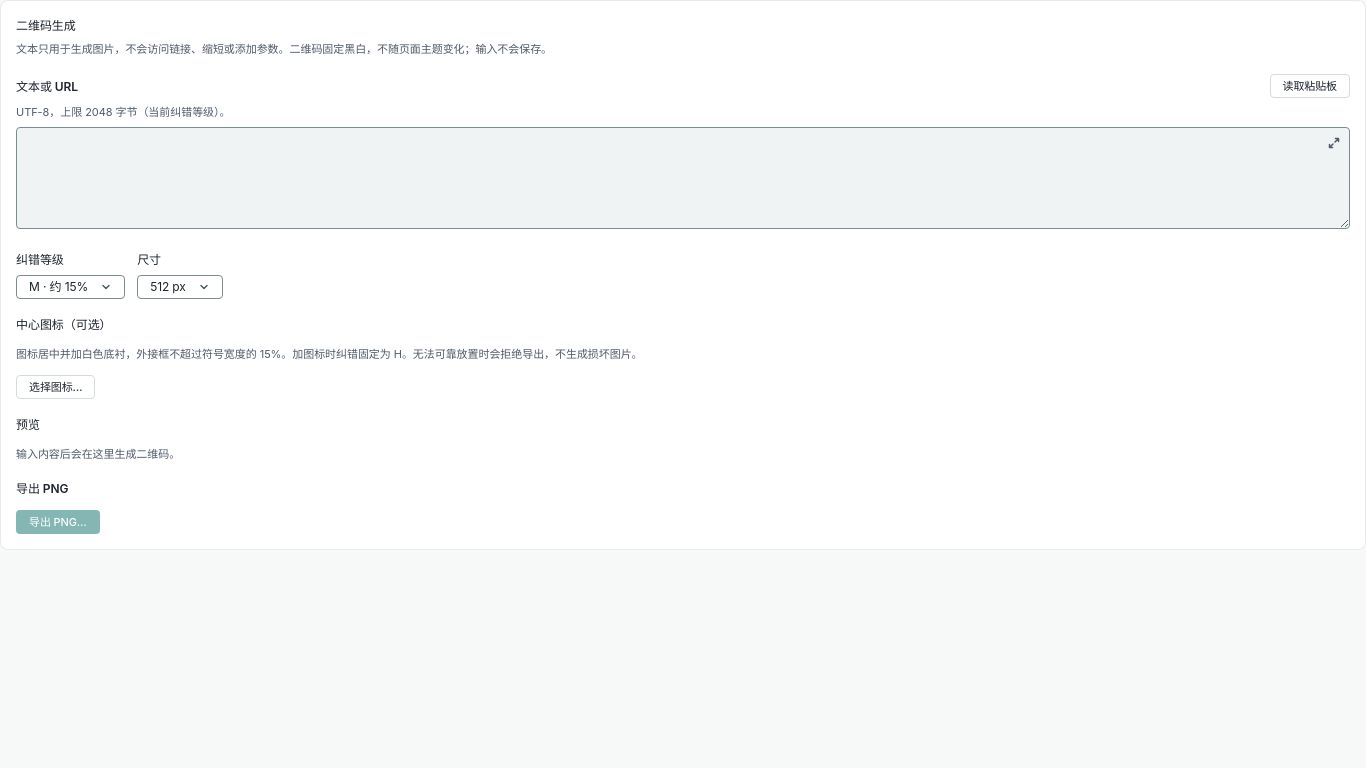
it: 二维码生成 输入框的读取粘贴板 › replaces the current input with the clipboard text
Type "旧内容" into the text box labelled "文本或 URL". click: [683, 178]
box: [16, 127, 1350, 229]
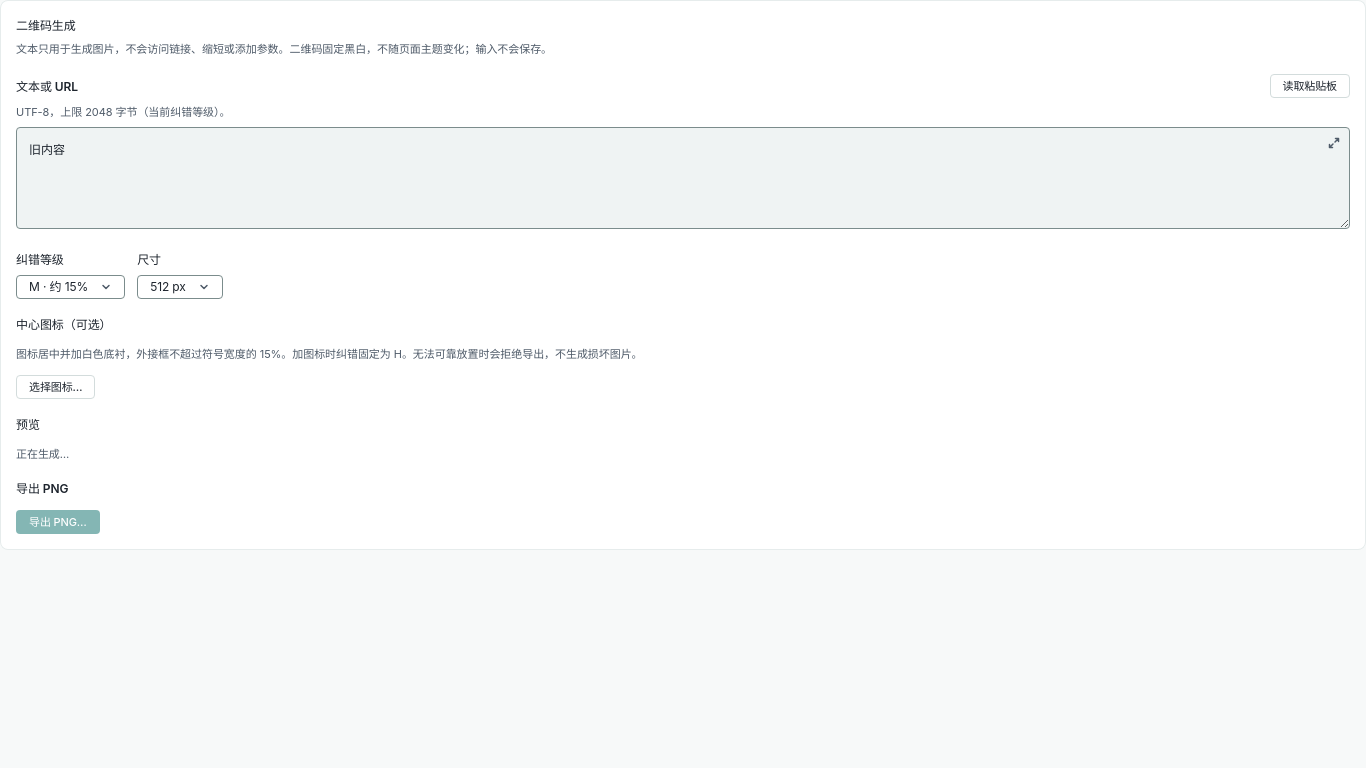
Click the button "读取粘贴板". click: [1310, 86]
box: [1270, 74, 1350, 98]
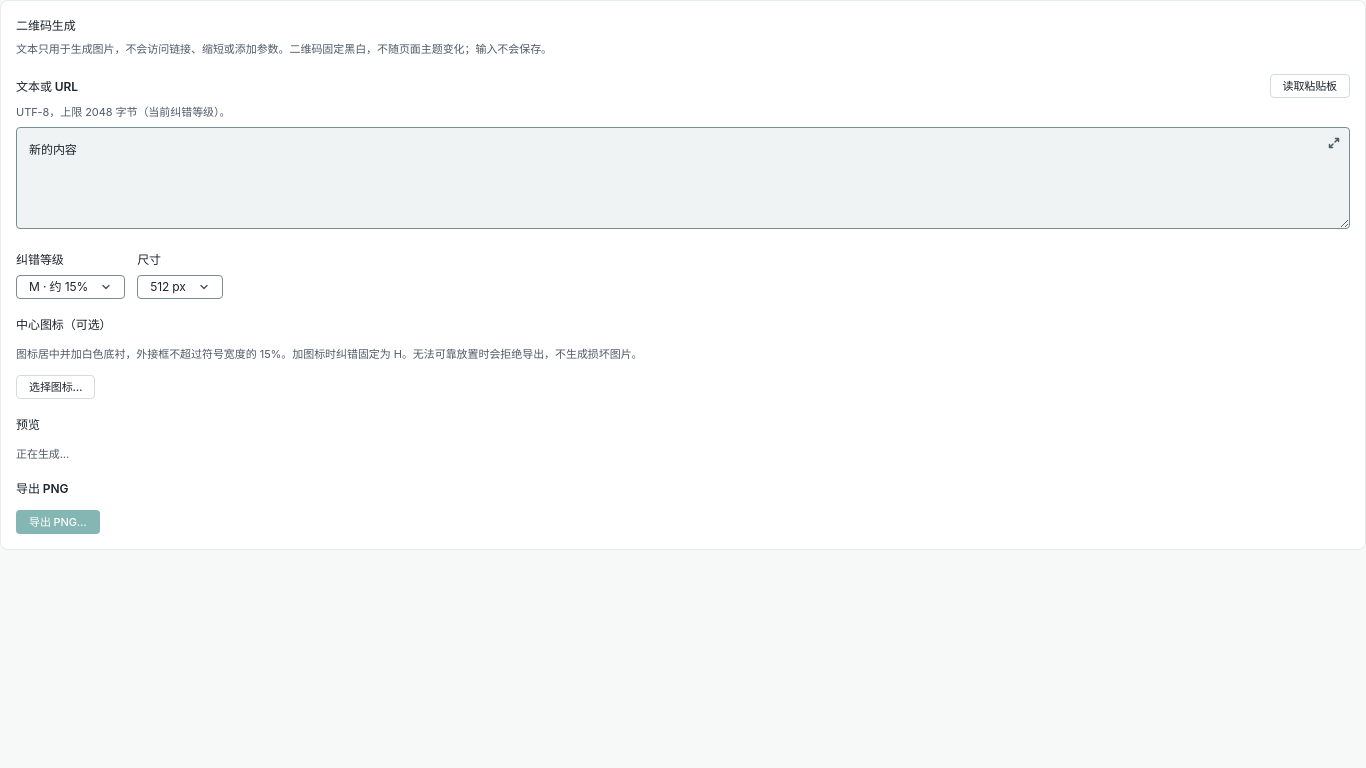
Check: the text box labelled "文本或 URL" holds "新的内容", box [16, 127, 1350, 229]
